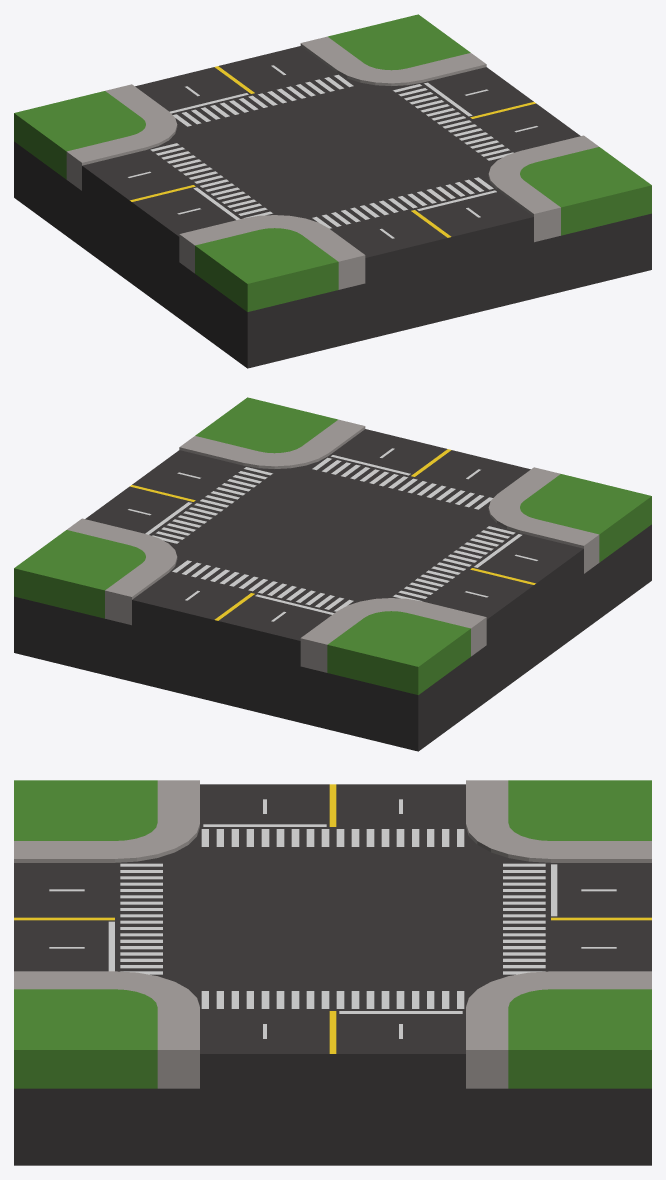
File: tiles_tile-mainroad-intersection.fbx
3 renders of one model, top to bottom at view 1: azimuth 30°, elevation 25°; view 2: azimuth 150°, elevation 25°; view 3: azimuth 270°, elevation 25°, orthographic. The views are drawn at different scales.
Visible parts, largest first — view 1: tiles_tile_mainroad_intersection; view 2: tiles_tile_mainroad_intersection; view 3: tiles_tile_mainroad_intersection.
Boxes of the visible parts, x1,y1,x2,y2 form: tiles_tile_mainroad_intersection: (14, 14, 651, 368); tiles_tile_mainroad_intersection: (14, 397, 651, 751); tiles_tile_mainroad_intersection: (14, 780, 651, 1165).
Bounding box in the file's own units: 200 × 40 × 200.
